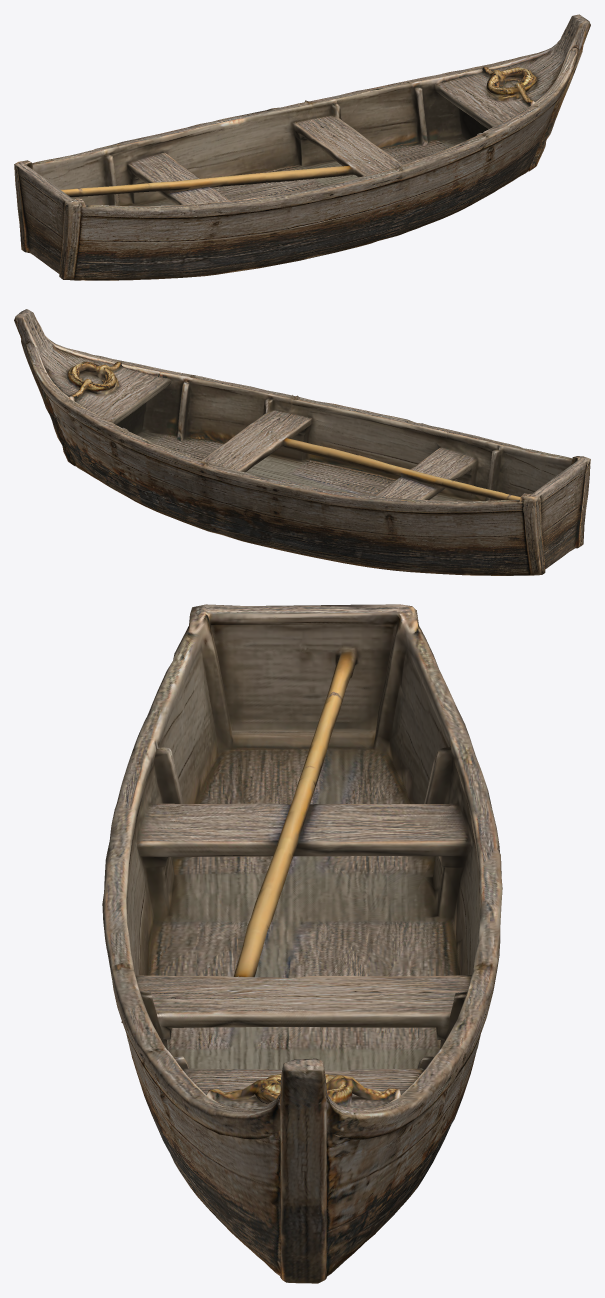
Rendered from boat.glb.
3 renders of one model, top to bottom at view 1: azimuth 30°, elevation 25°; view 2: azimuth 150°, elevation 25°; view 3: azimuth 270°, elevation 25°, orthographic. The views are drawn at different scales.
Parts seen in each view (by area): view 1: tripo_node_d91276b6-b79f-44a6-b9ba-24b2b14aa395; view 2: tripo_node_d91276b6-b79f-44a6-b9ba-24b2b14aa395; view 3: tripo_node_d91276b6-b79f-44a6-b9ba-24b2b14aa395.
Boxes of the visible parts, x1,y1,x2,y2 form: tripo_node_d91276b6-b79f-44a6-b9ba-24b2b14aa395: (14,14,590,280); tripo_node_d91276b6-b79f-44a6-b9ba-24b2b14aa395: (14,309,590,575); tripo_node_d91276b6-b79f-44a6-b9ba-24b2b14aa395: (102,604,502,1283).
Size of the model in its own units: 3.79 by 0.93 by 1.2.
Materials: 1 (1 with a texture image).
